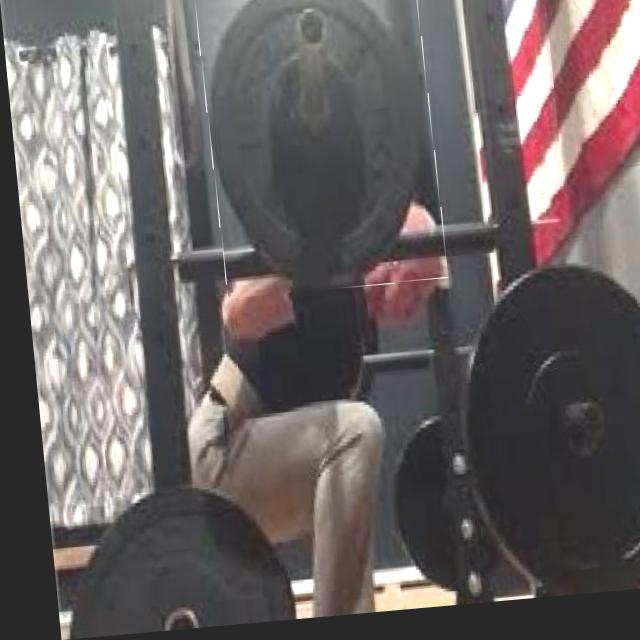barbell: (195, 1, 442, 302)
